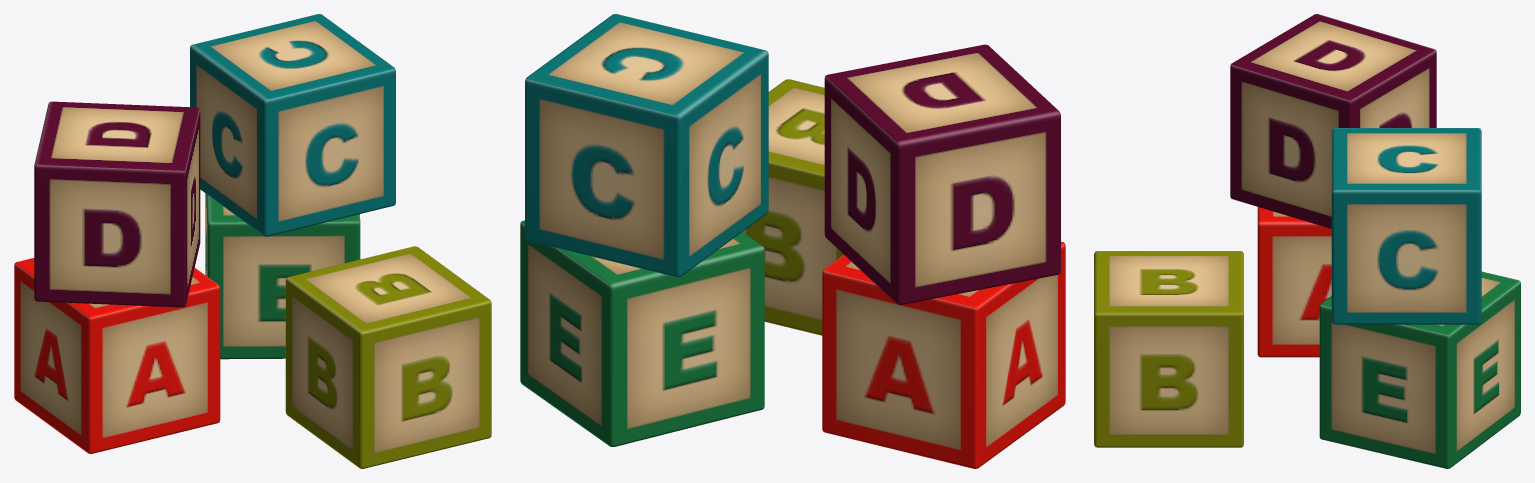
Rendered from blocks.fbx.
3 renders of one model, left to right at view 1: azimuth 30°, elevation 25°; view 2: azimuth 150°, elevation 25°; view 3: azimuth 270°, elevation 25°, orthographic. The views are drawn at different scales.
Visible parts, largest first — view 1: B, C, D, A, E; view 2: C, D, E, A, B; view 3: C, B, D, E, A.
Part boxes in pixels (x1,y1,x2,y2): B: [285, 246, 491, 468]; C: [190, 14, 395, 236]; D: [34, 101, 200, 307]; A: [14, 258, 220, 453]; E: [205, 193, 360, 359]; C: [525, 14, 768, 277]; D: [824, 44, 1060, 304]; E: [520, 220, 764, 446]; A: [822, 241, 1065, 468]; B: [743, 79, 843, 335]; C: [1331, 128, 1481, 324]; B: [1094, 251, 1243, 447]; D: [1230, 14, 1436, 228]; E: [1319, 271, 1520, 468]; A: [1257, 207, 1331, 357].
Bounding box in the file's own units: 20.1 × 13.61 × 19.42.
Materials: 1 (1 with a texture image).
